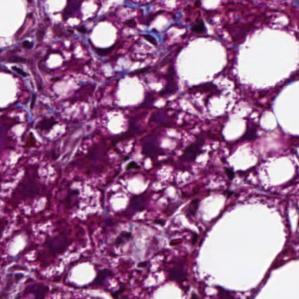inflammation: (119, 8, 178, 46), (23, 111, 70, 150)
